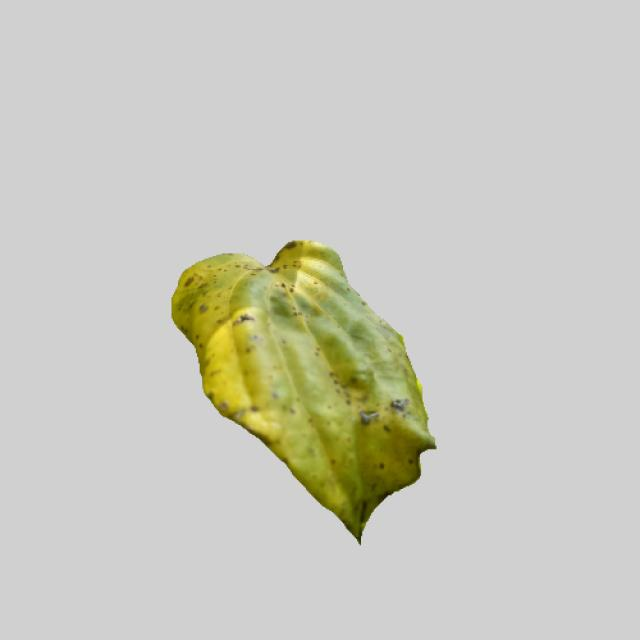yellow-mottle-virus: (159, 236, 434, 546)
